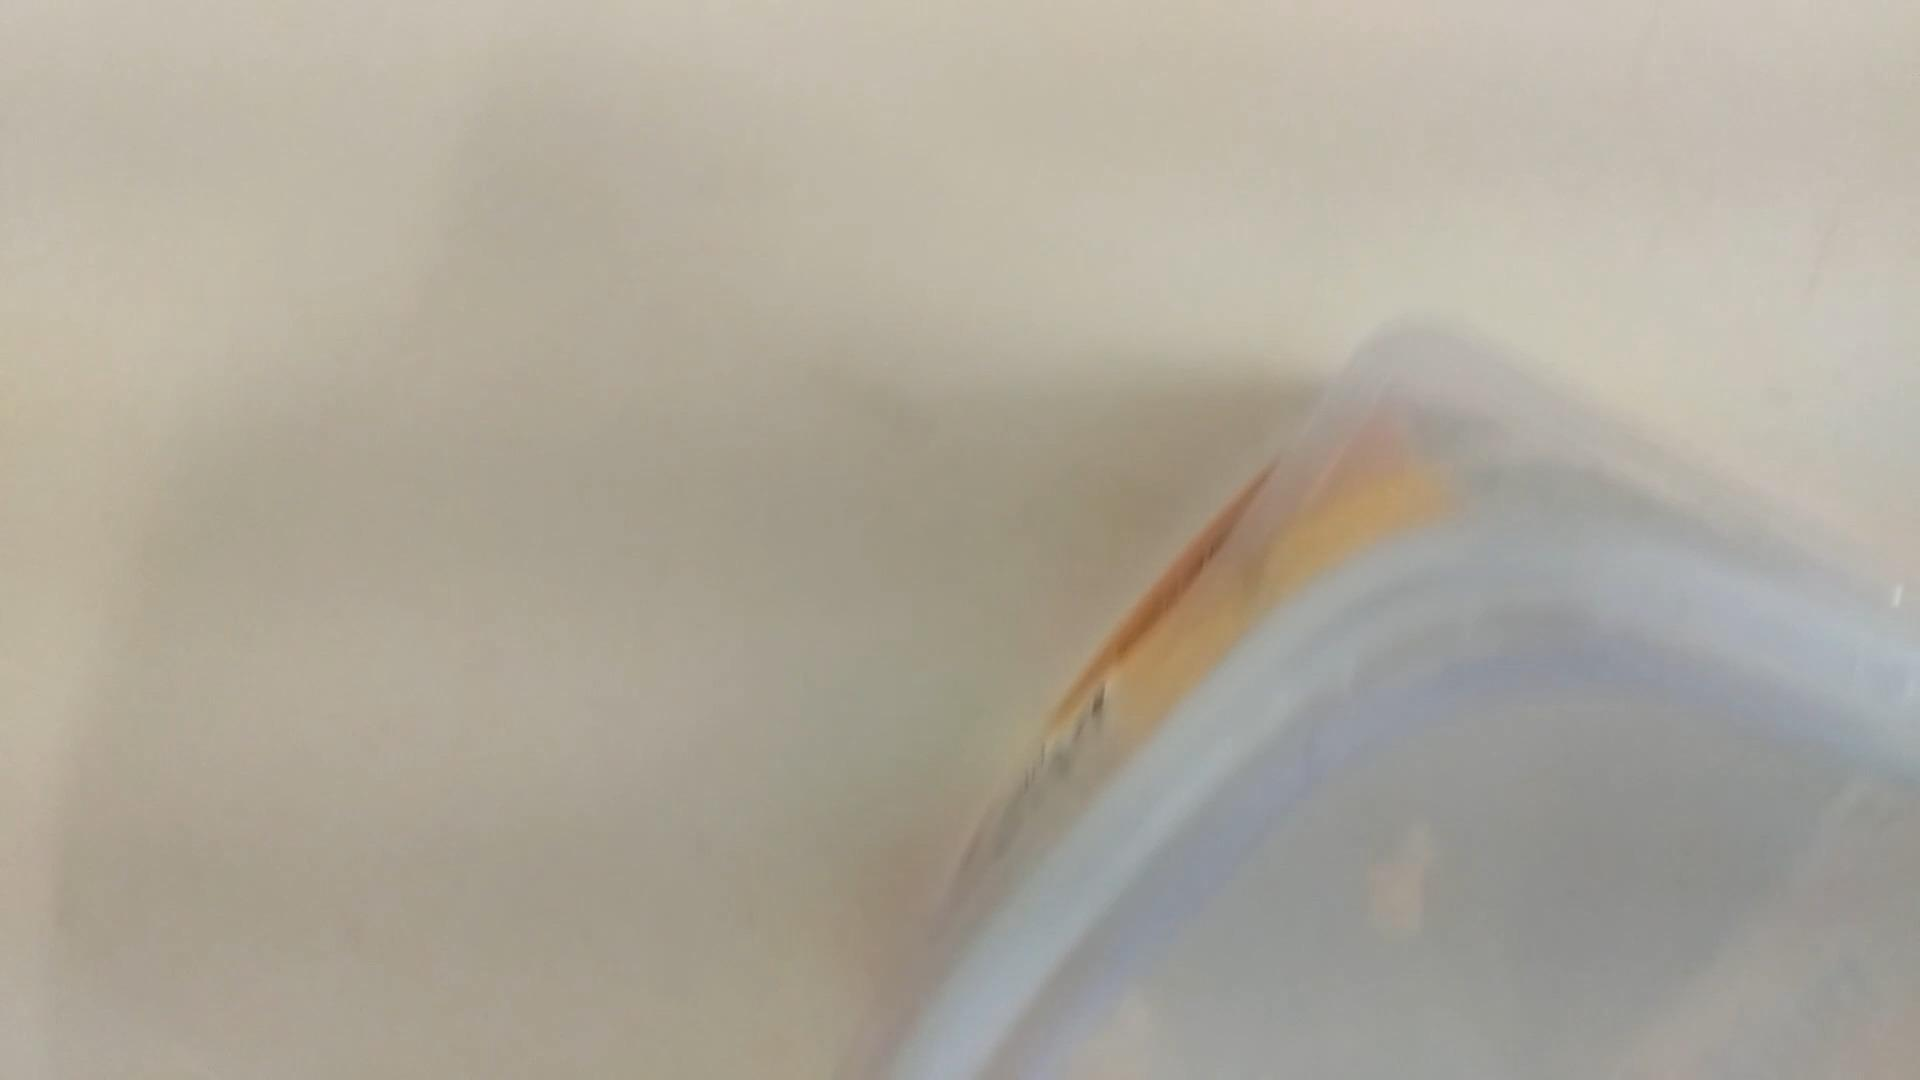butter: (839, 329, 1920, 1076)
